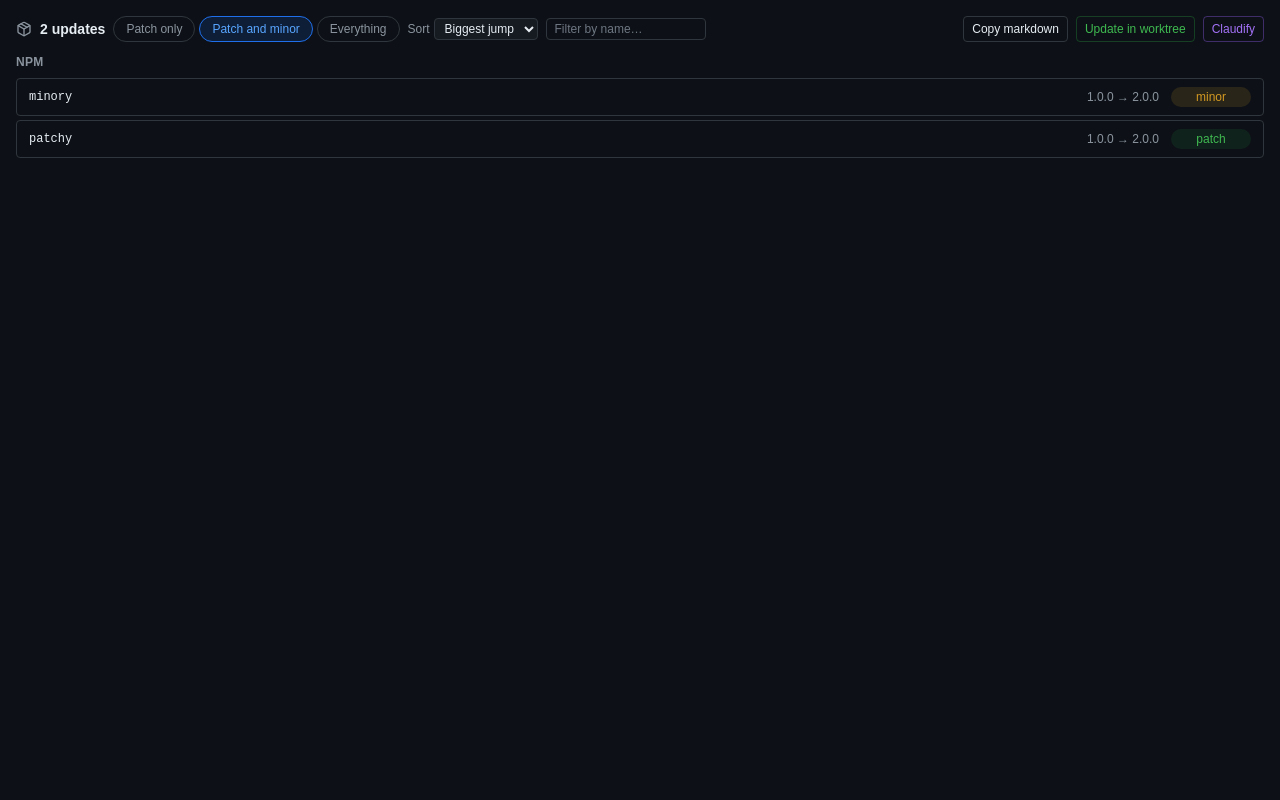
Test case: the update wizard's contents › counts on the button what the modal will list
Expected: the text "2 updates" is shown, [40,19,105,39]
Click the button "Update in worktree" at (1135, 29), box [1076,16,1195,42]
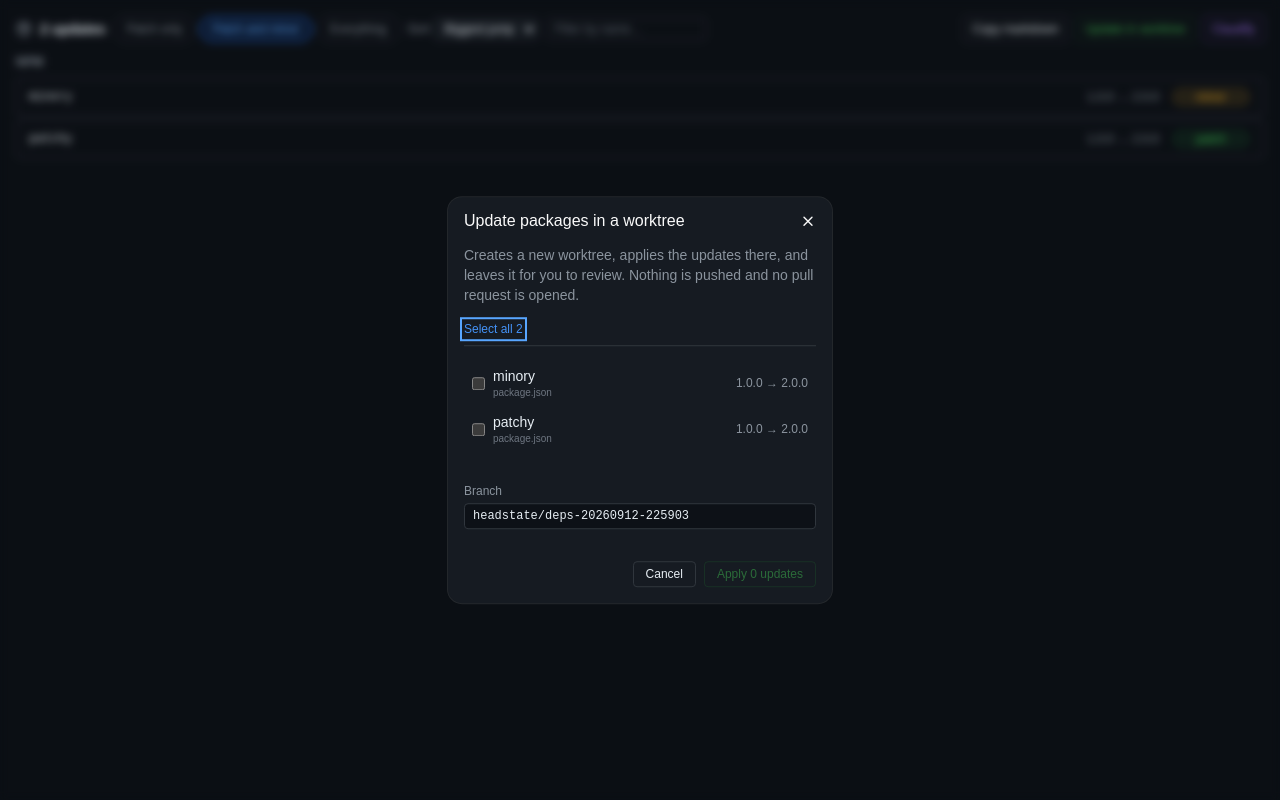
Expected: the number of checkboxes is 2, [472,377,485,390]; [472,423,485,436]
